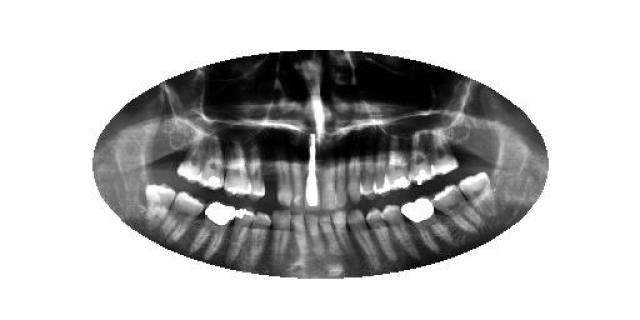Fillings: (189, 199, 236, 259), (402, 196, 452, 252), (382, 134, 412, 191), (226, 205, 255, 263), (198, 135, 226, 191), (432, 126, 460, 175), (410, 132, 434, 186)
Implant: (301, 134, 321, 211)
